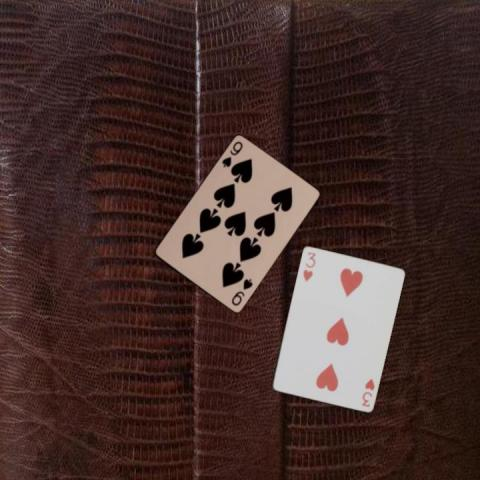3h: (300, 248, 317, 282), (359, 375, 376, 408)
9s: (218, 138, 244, 169), (229, 276, 254, 307)
